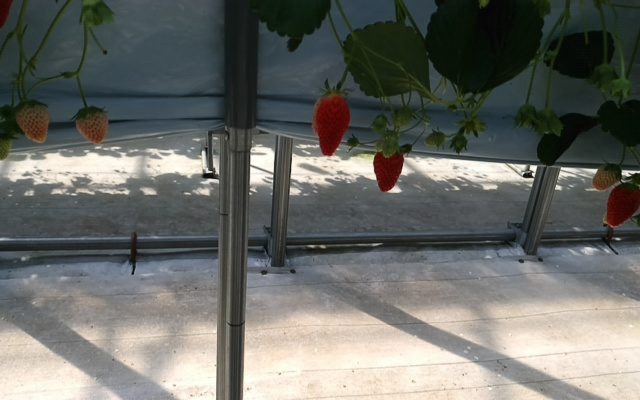GreenStrawberry: (15, 101, 49, 144), (74, 106, 108, 144), (592, 162, 622, 192), (378, 132, 399, 160), (1, 121, 14, 162), (424, 129, 446, 150), (393, 107, 414, 129)
MatureStrawberry: (312, 89, 351, 157), (605, 181, 640, 229), (374, 144, 404, 195)
